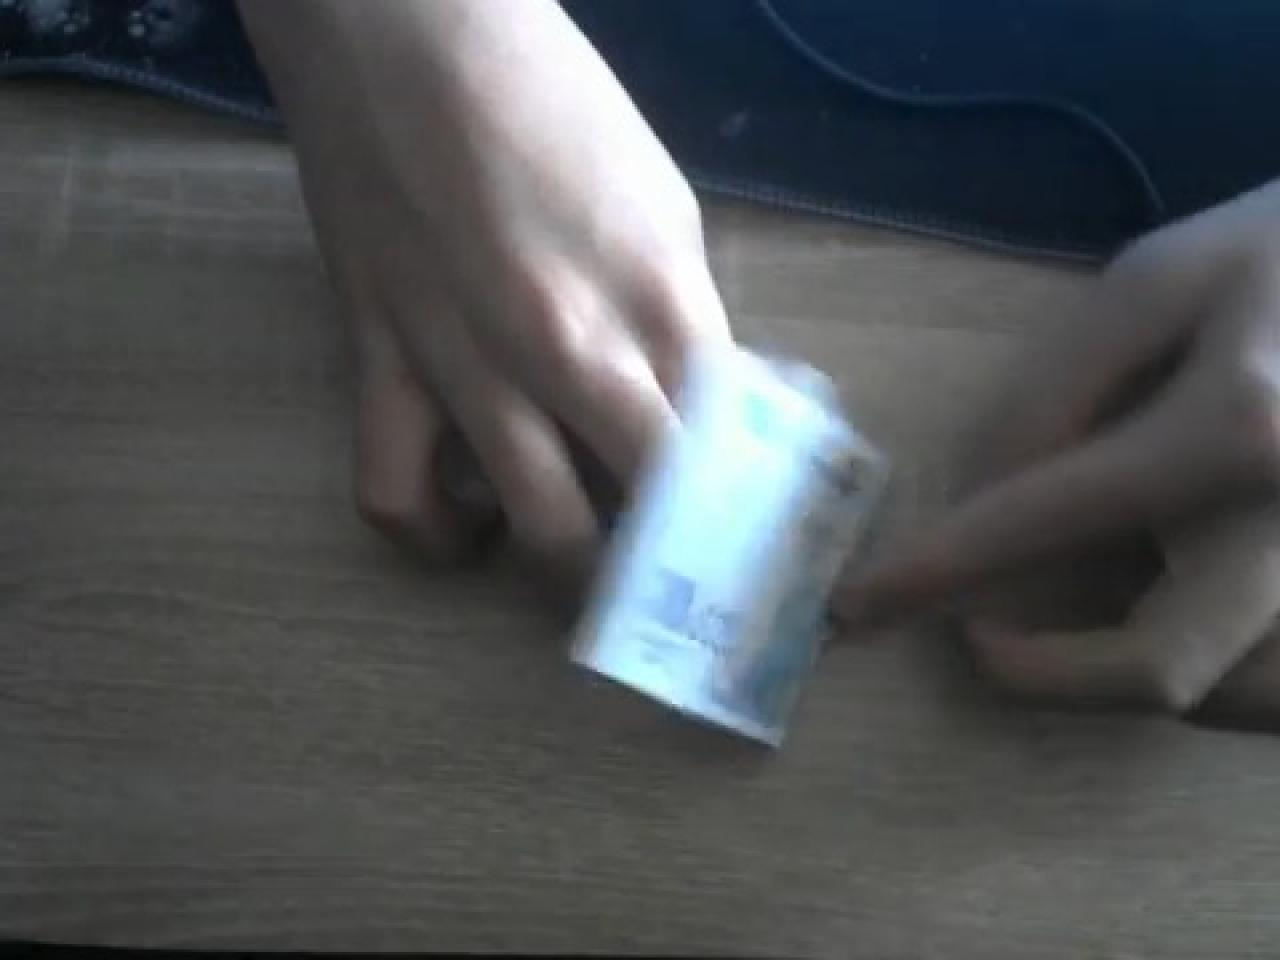20leva: (562, 336, 893, 752)
